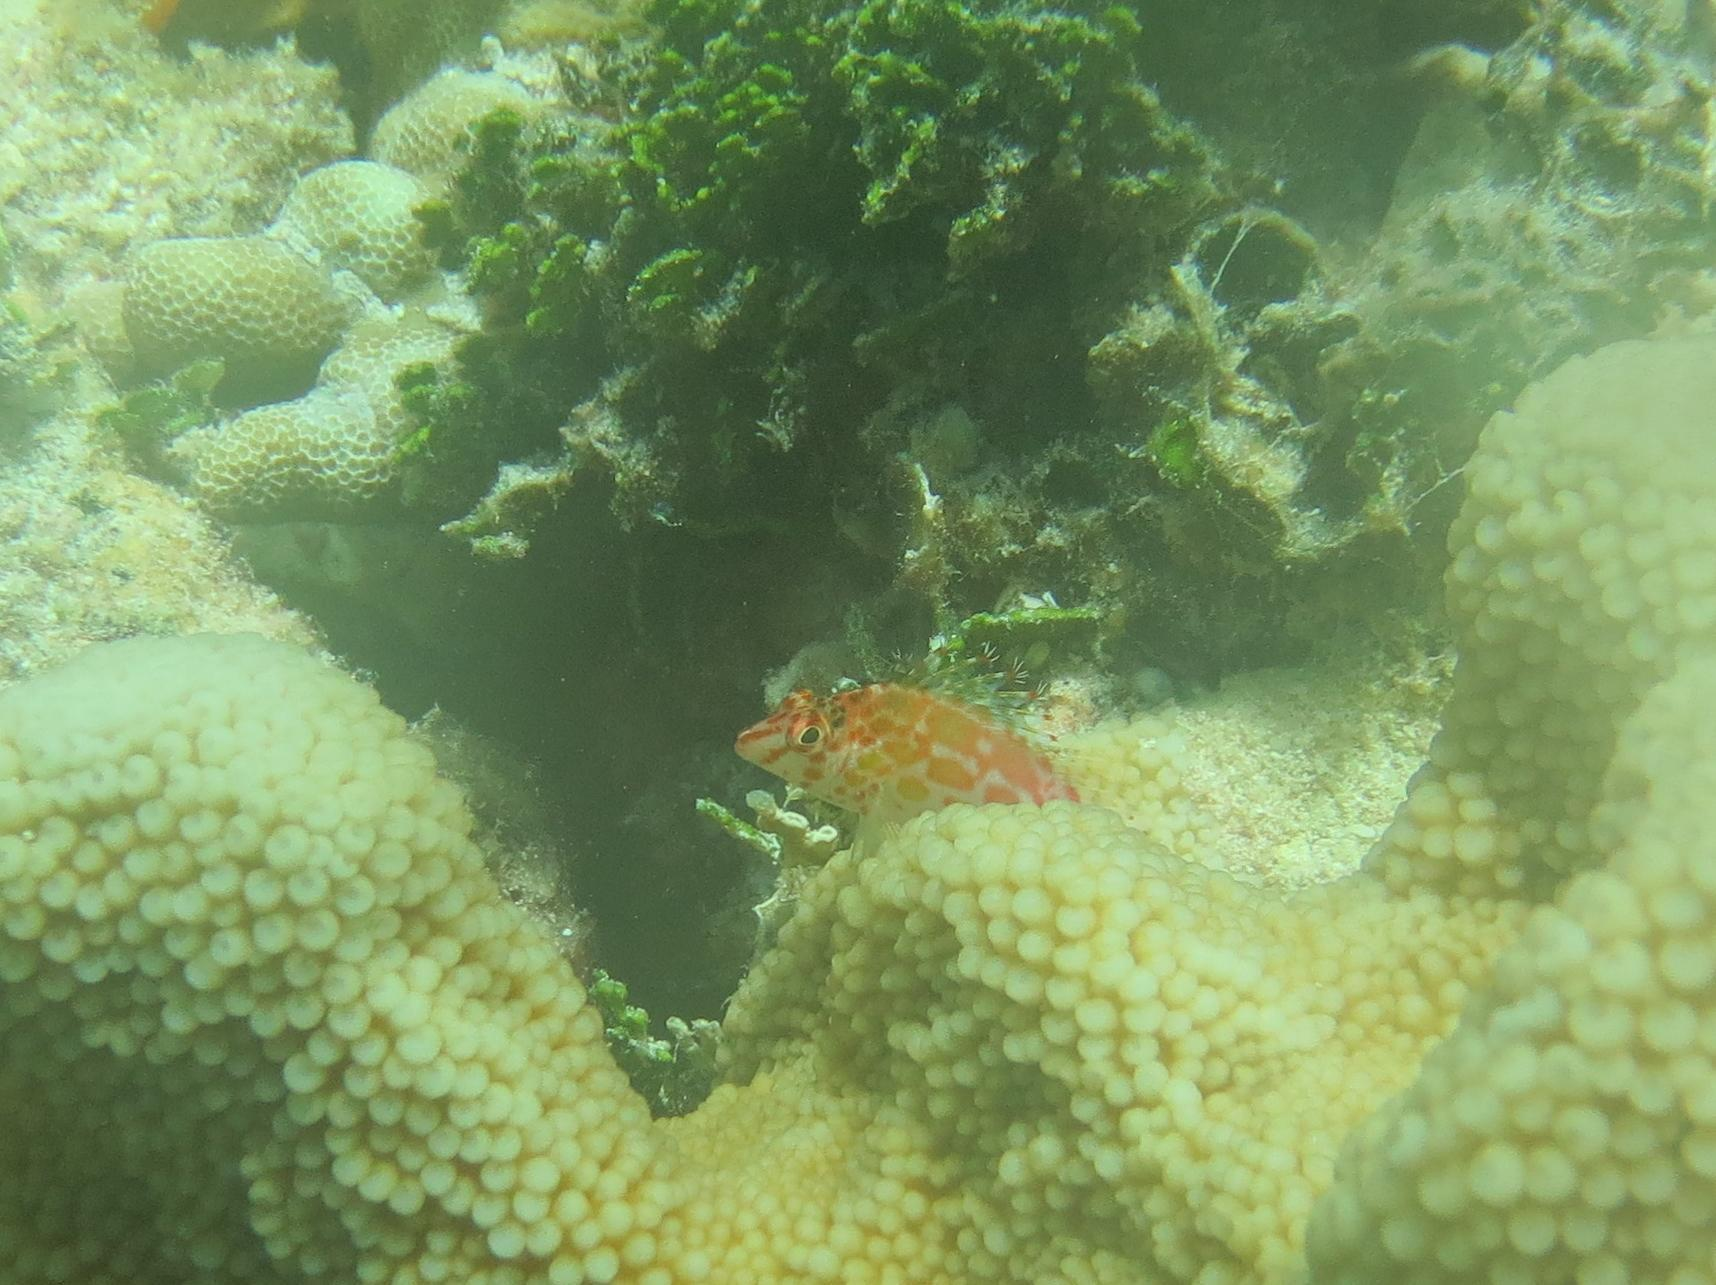Fish: (718, 668, 1117, 875)
